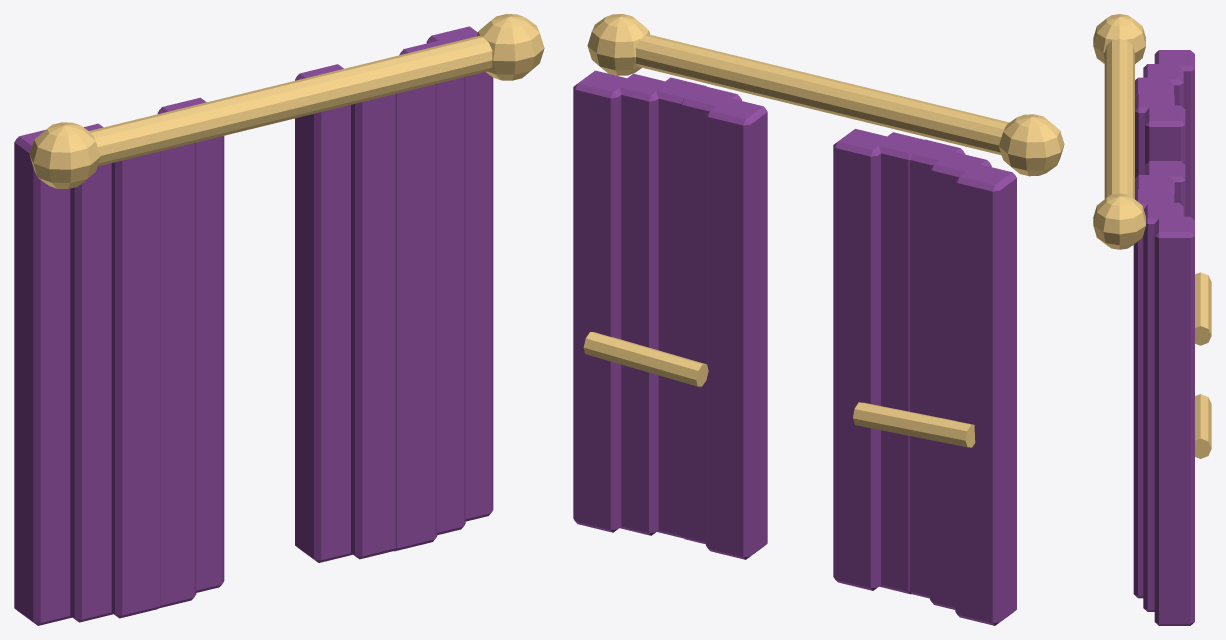
The model's file is crypt_curtain.glb.
The picture shows the model from 3 angles, left to right: view 1: azimuth 30°, elevation 25°; view 2: azimuth 150°, elevation 25°; view 3: azimuth 270°, elevation 25°; orthographic projection. The views are drawn at different scales.
Bounding box in the file's own units: 0.96 × 0.935 × 0.2343.
